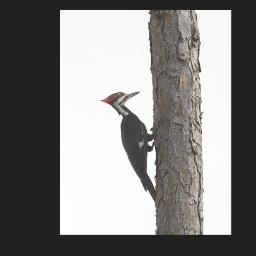Woodpecker: (100, 91, 156, 206)
